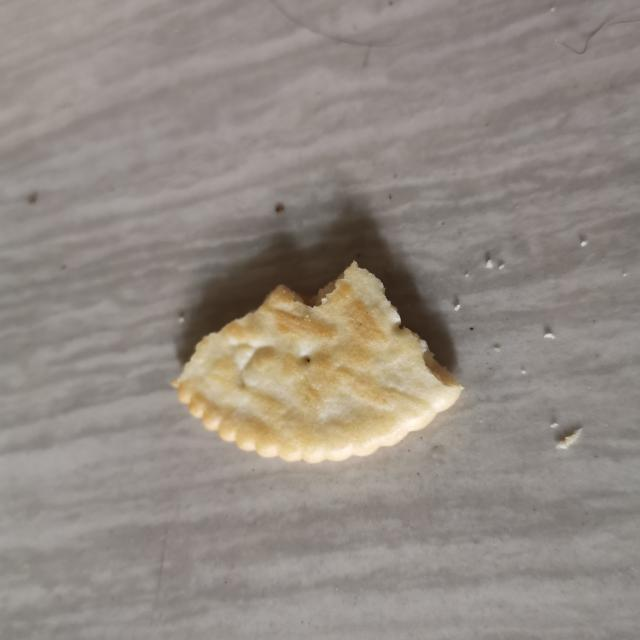Broken: (171, 259, 465, 465)
